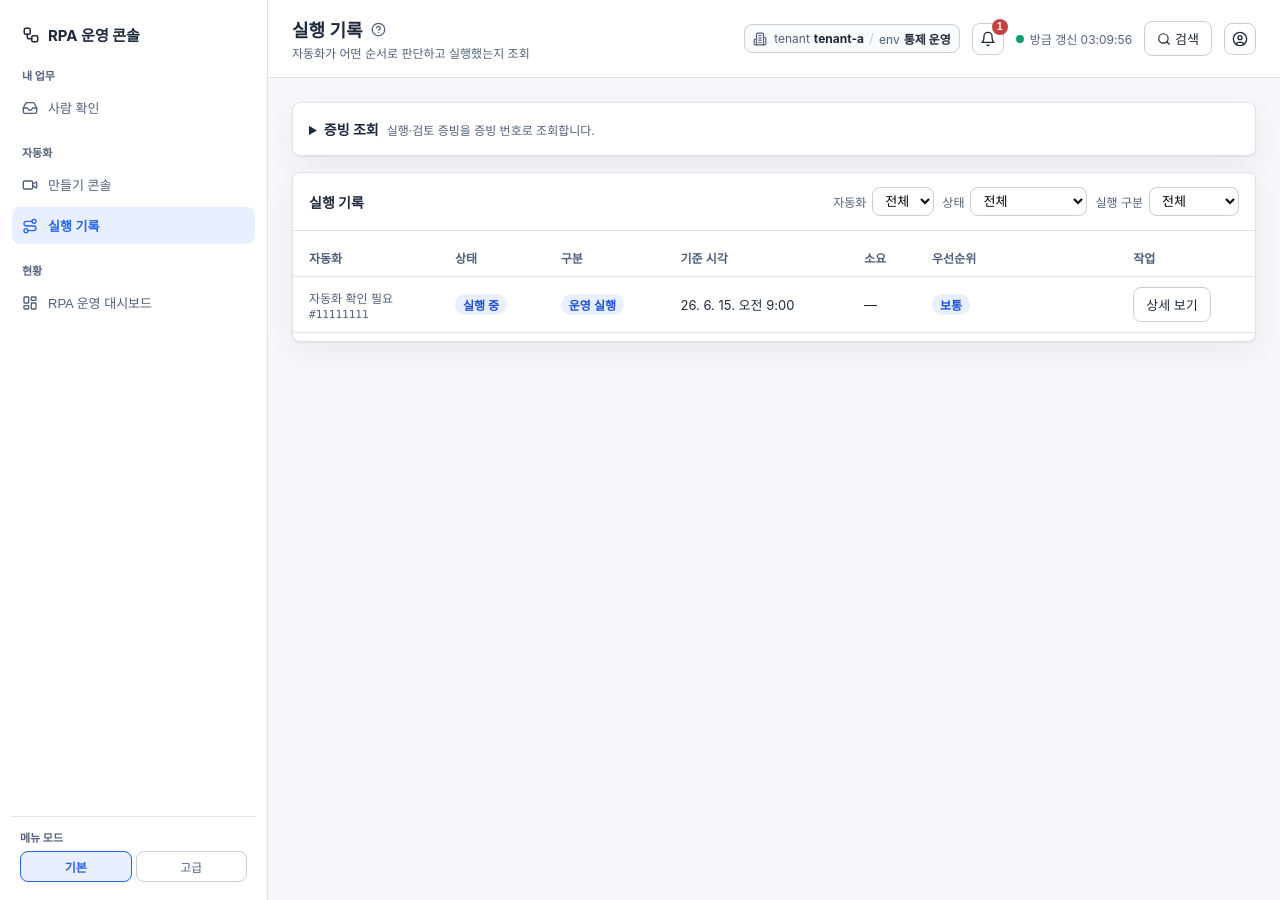
Test case: 실행 상세 상태 패널 — 터미널 상태(F3) › running → 도착 배너 미표시
The image size is (1280, 900).
Click the button with aria-label "실행 추적 상세 보기".
click(1172, 304)  # box left=1133, top=287, right=1211, bottom=322
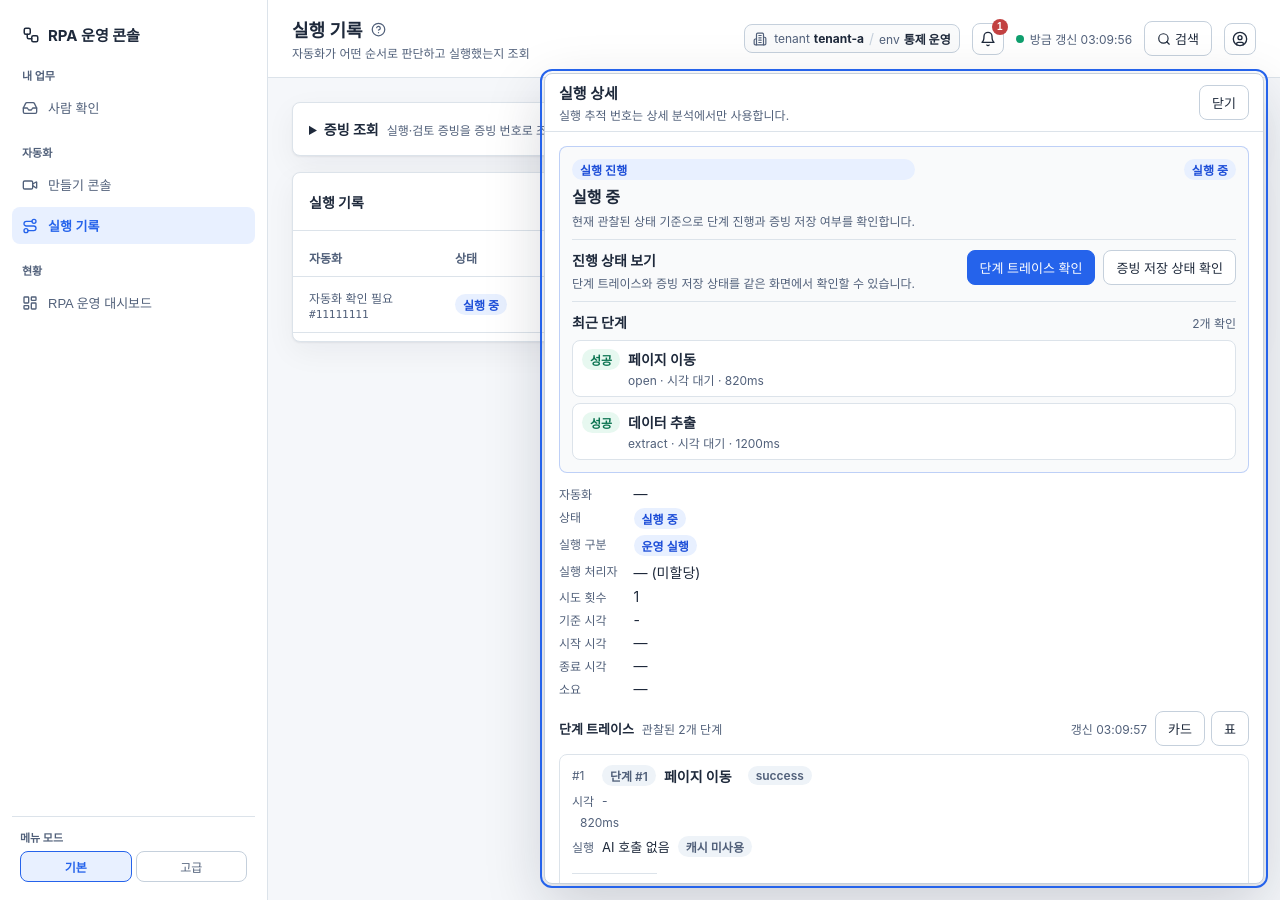
Expected: the text "시도 횟수" is shown, left=559, top=590, right=606, bottom=605
